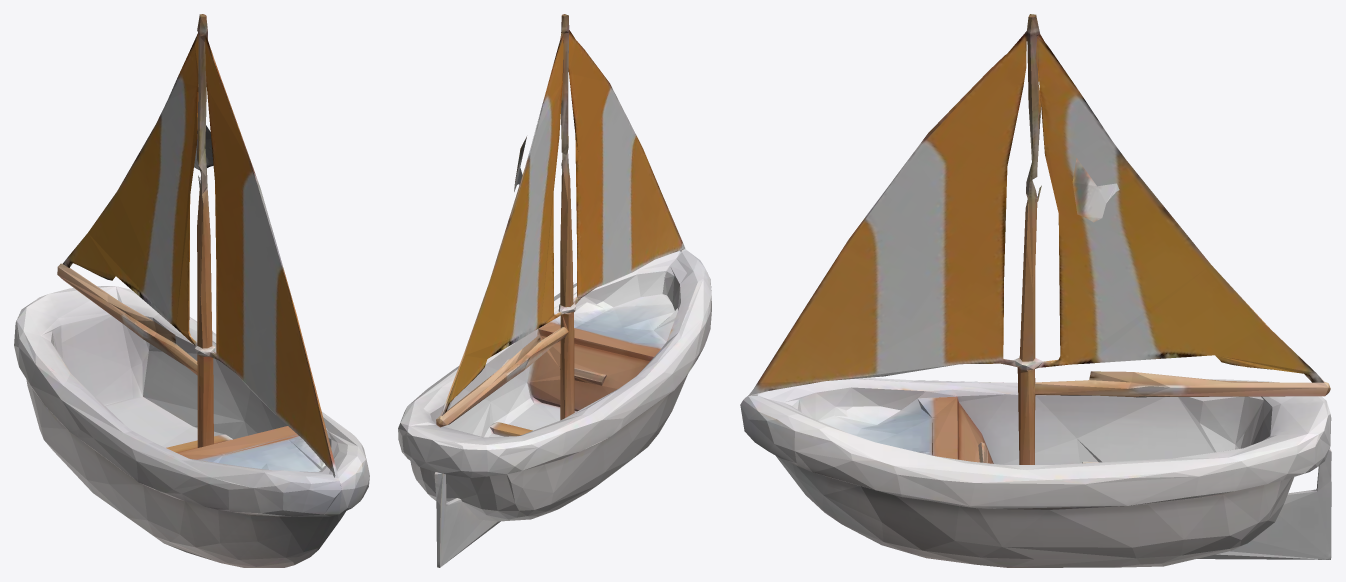
Rendered from sailboat.glb.
3 views of the same model, side by side, from view 1: azimuth 30°, elevation 25°; view 2: azimuth 150°, elevation 25°; view 3: azimuth 270°, elevation 25° (orthographic). The views are drawn at different scales.
Parts seen in each view (by area): view 1: geometry_0; view 2: geometry_0; view 3: geometry_0.
Boxes of the visible parts, left/top/right/bottom form: geometry_0: left=14, top=14, right=369, bottom=567; geometry_0: left=398, top=14, right=711, bottom=567; geometry_0: left=740, top=14, right=1331, bottom=567.
Size of the model in its own units: 0.3794 by 0.9988 by 0.9844.
1 material, 1 textured.
